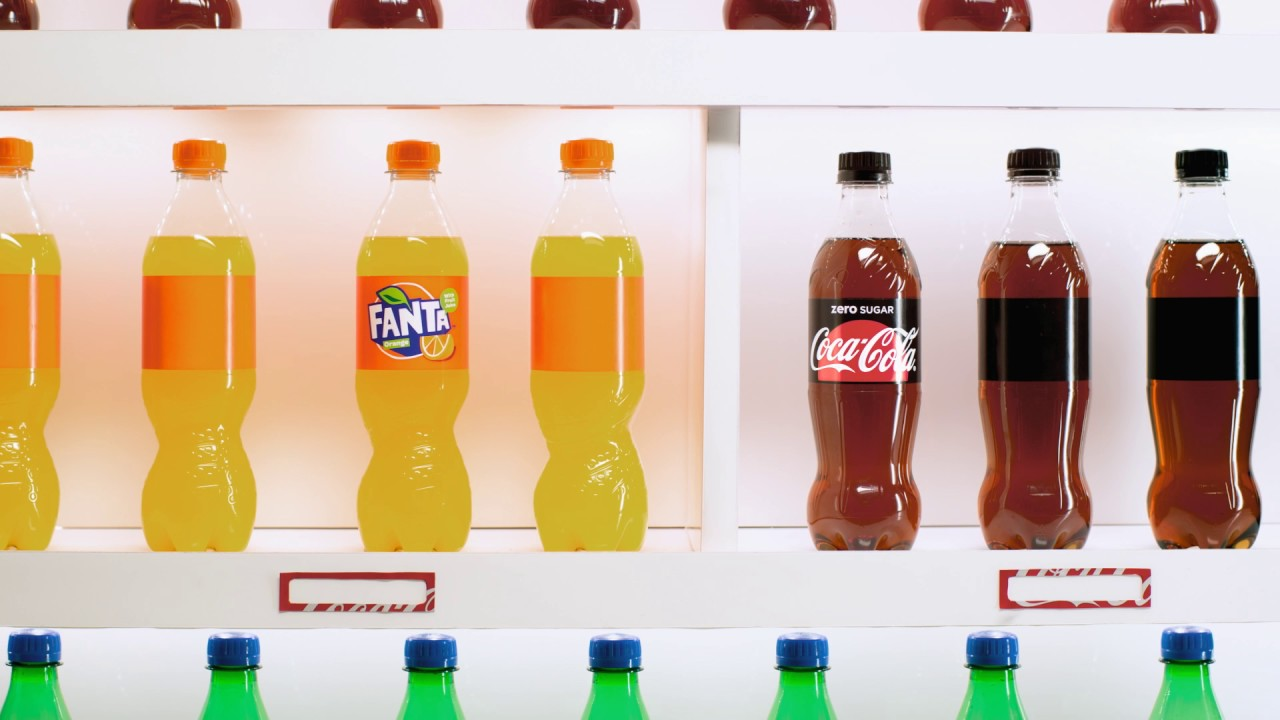Coca-Cola: (800, 146, 935, 581)
Fanta: (338, 138, 495, 557)
